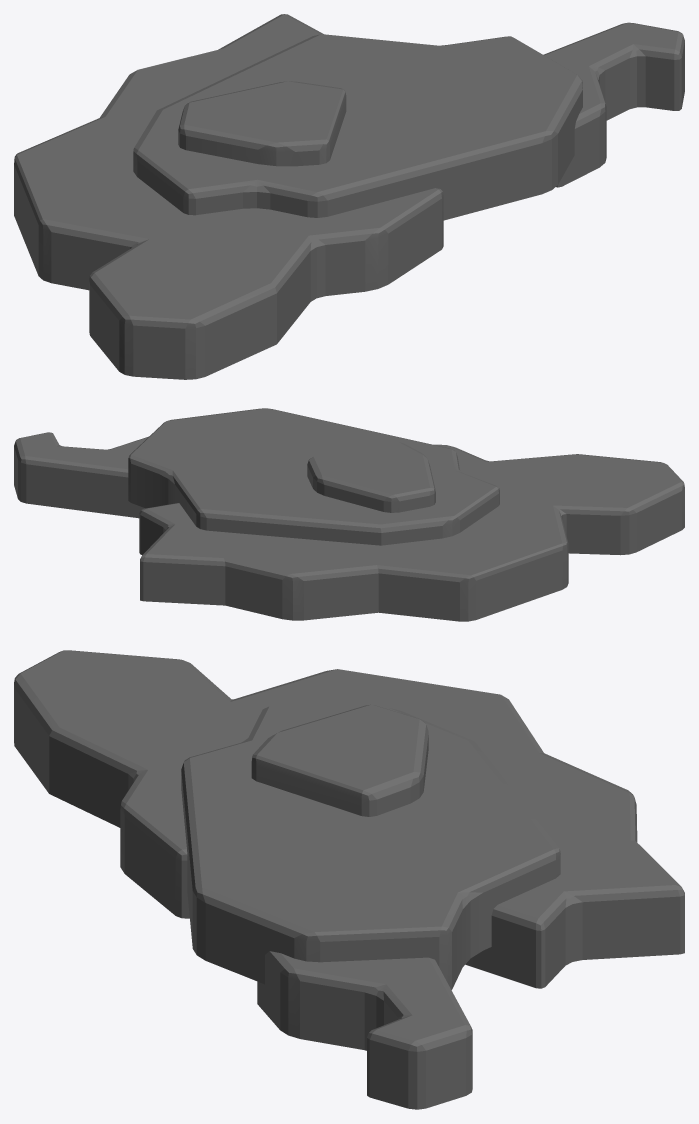
Rendered from mesh_Factory_Ground_Outside_Isle_B.fbx.
3 views of the same model, one above another, from view 1: azimuth 30°, elevation 25°; view 2: azimuth 150°, elevation 25°; view 3: azimuth 270°, elevation 25° (orthographic). The views are drawn at different scales.
Parts seen in each view (by area): view 1: mesh_Factory_Ground_Outside_Isle_B; view 2: mesh_Factory_Ground_Outside_Isle_B; view 3: mesh_Factory_Ground_Outside_Isle_B.
Boxes of the visible parts, bbox=[...] form: mesh_Factory_Ground_Outside_Isle_B: bbox=[14, 14, 684, 379]; mesh_Factory_Ground_Outside_Isle_B: bbox=[14, 408, 684, 621]; mesh_Factory_Ground_Outside_Isle_B: bbox=[14, 650, 684, 1109].
Size of the model in its own units: 22.21 by 3.11 by 15.95.
